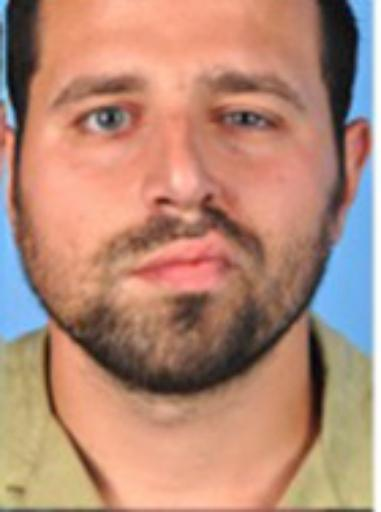left_eye: (211, 106, 287, 136)
left_lip_corner: (226, 252, 246, 279)
right_eye: (65, 100, 142, 137)
right_lip_corner: (123, 259, 148, 281)
